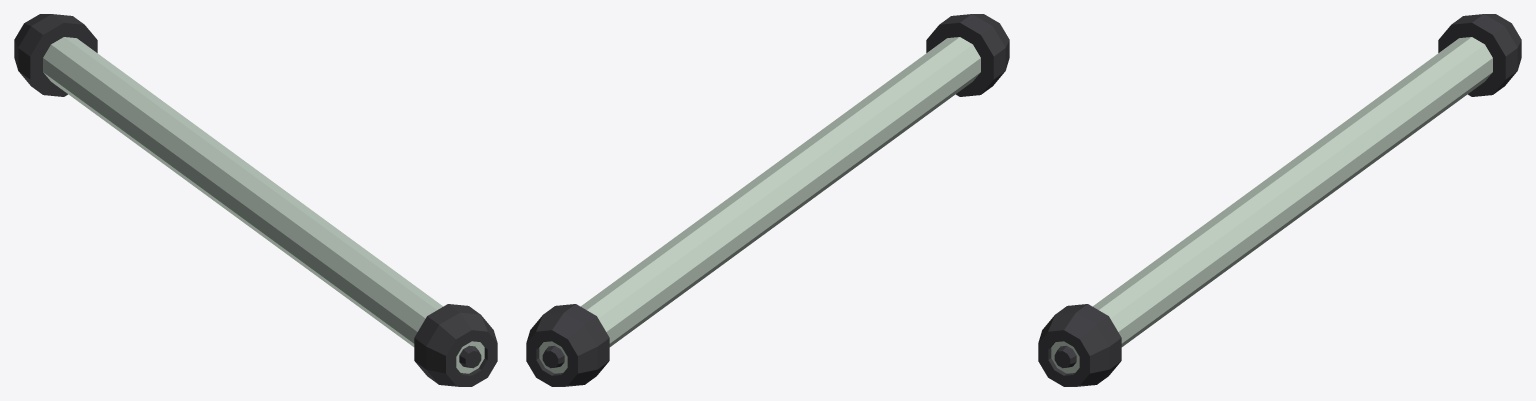
The model's file is NeonStick.fbx.
3 renders of one model, left to right at view 1: azimuth 30°, elevation 25°; view 2: azimuth 150°, elevation 25°; view 3: azimuth 330°, elevation 25°, orthographic.
Visible parts, largest first — view 1: NeonStick; view 2: NeonStick; view 3: NeonStick.
Part boxes in pixels (<box>): NeonStick: <box>14,14,497,386</box>; NeonStick: <box>526,14,1009,386</box>; NeonStick: <box>1038,14,1521,386</box>.
Size of the model in its own units: 116 by 122 by 1289.
2 materials, 1 textured.
